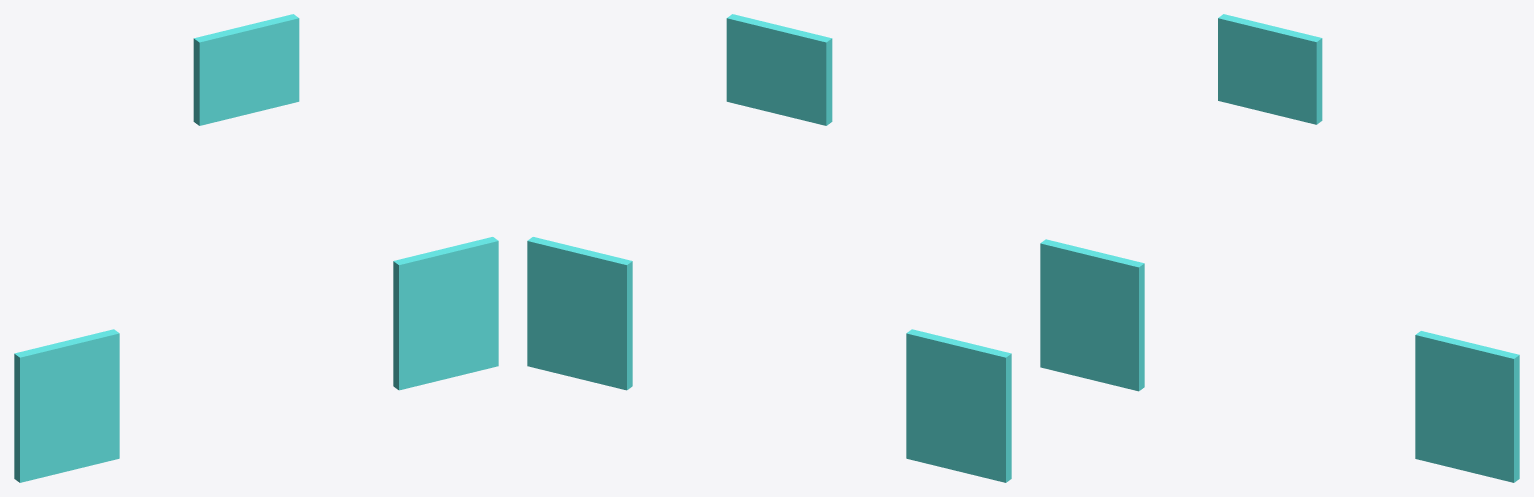
Rendered from Carato vetro.obj.
3 renders of one model, left to right at view 1: azimuth 30°, elevation 25°; view 2: azimuth 150°, elevation 25°; view 3: azimuth 330°, elevation 25°, orthographic.
Size of the model in its own units: 9.6 by 7.6 by 0.2.
1 material, 1 textured.
